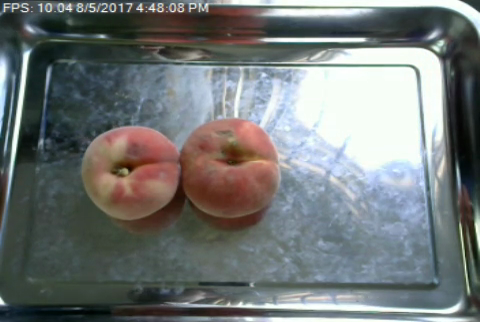Peach: (180, 117, 280, 217), (80, 124, 179, 220)
